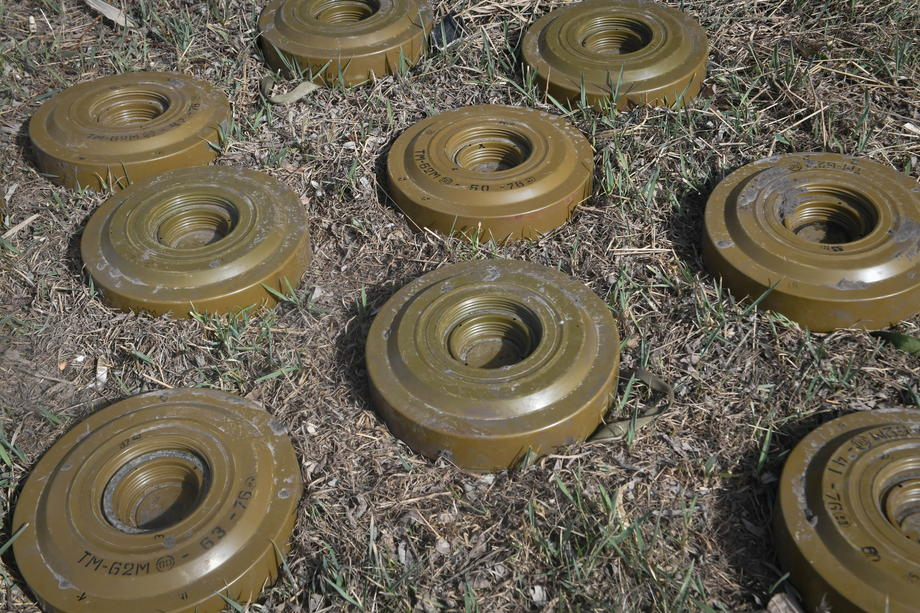car: (348, 249, 657, 487)
